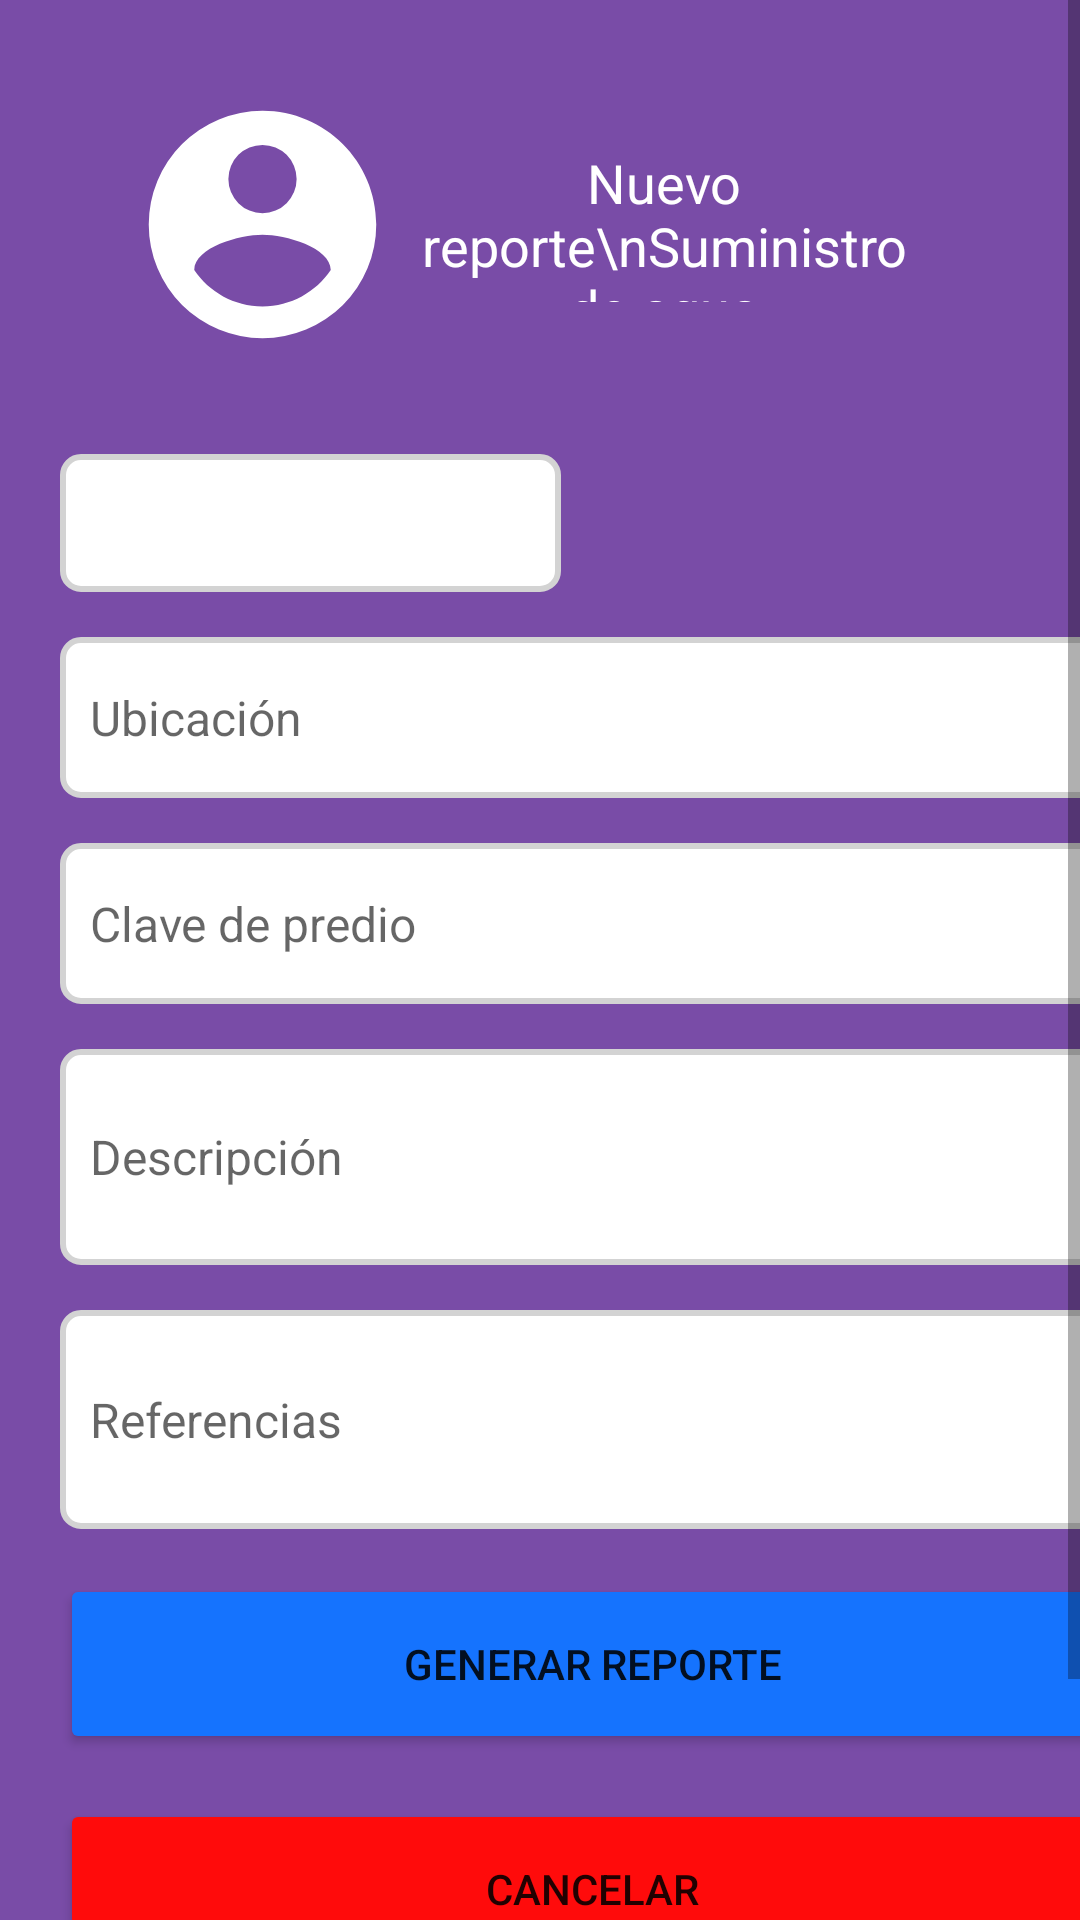

Point at icon controls on the screen. Image size 1080x1920, points as point (x, y).
account circle: point (306, 224)
